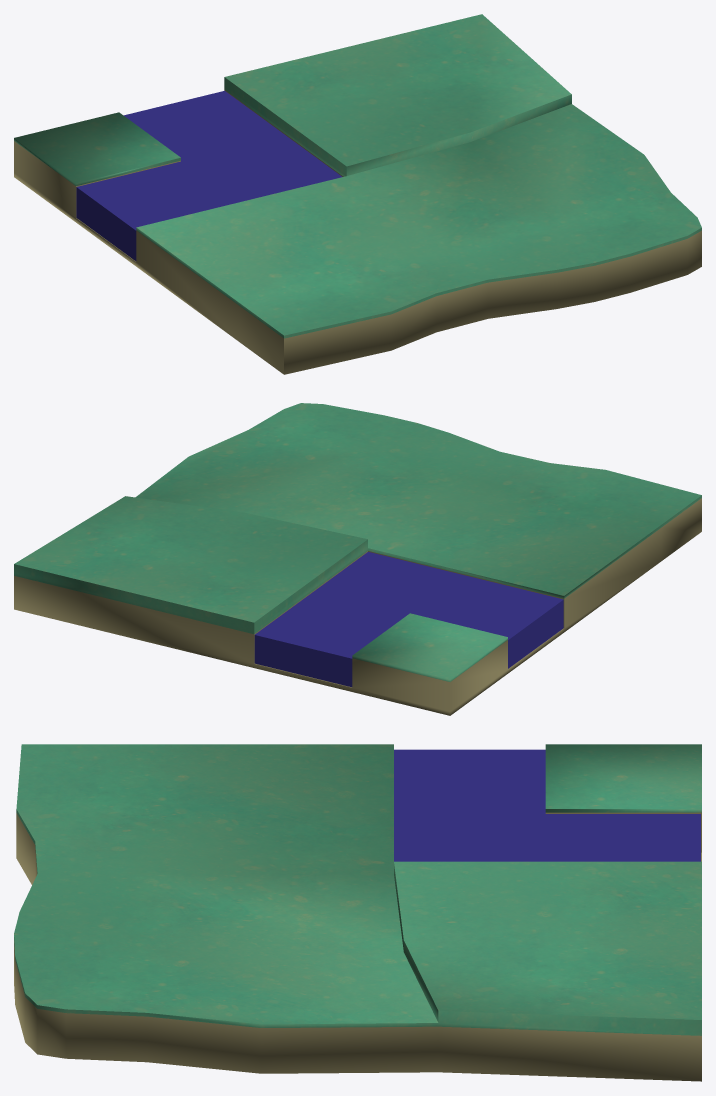
File: hunterscabin_level.fbx
3 renders of one model, top to bottom at view 1: azimuth 30°, elevation 25°; view 2: azimuth 150°, elevation 25°; view 3: azimuth 270°, elevation 25°, orthographic. The views are drawn at different scales.
Visible parts, largest first — view 1: hunterscabin, moat_water; view 2: hunterscabin, moat_water; view 3: hunterscabin, moat_water.
Boxes of the visible parts, box(x1,y1,x2,y2) form: hunterscabin: box(14, 14, 701, 374); moat_water: box(76, 90, 341, 261); hunterscabin: box(14, 403, 701, 715); moat_water: box(254, 552, 563, 687); hunterscabin: box(14, 744, 701, 1081); moat_water: box(394, 749, 700, 861).
Size of what is drawn, in the model's own units: 50 by 4.98 by 50.53.
